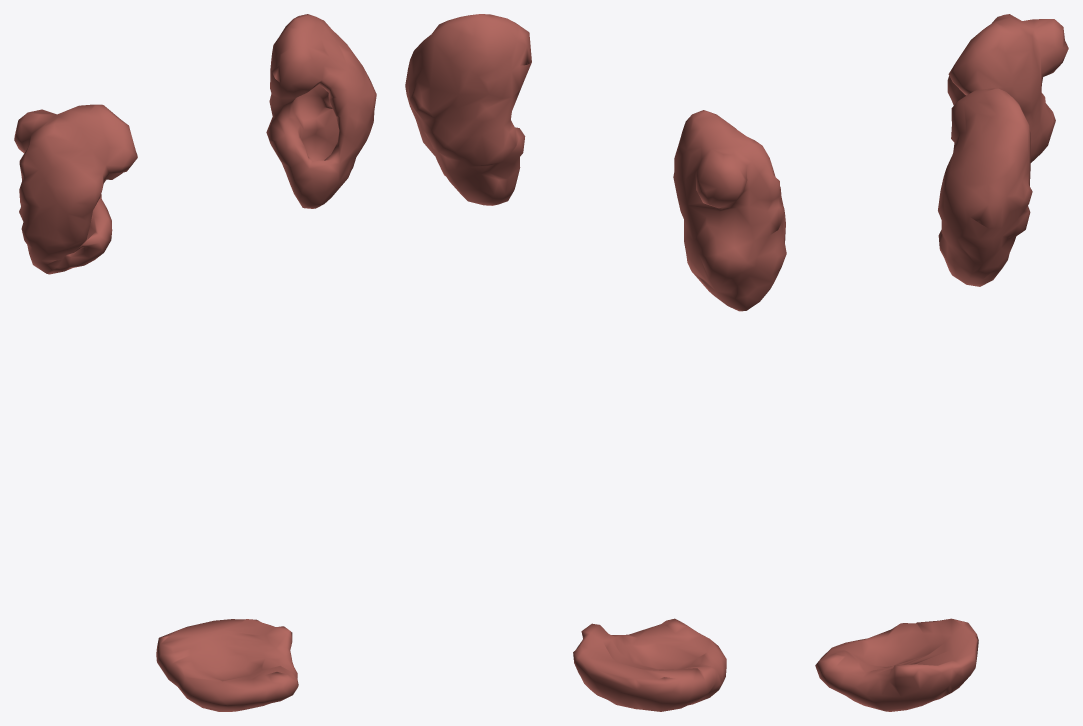
Rendered from tsd_s0327_older_adult_male.urinary.LOD3.glb.
The picture shows the model from 3 angles, left to right: view 1: azimuth 30°, elevation 25°; view 2: azimuth 150°, elevation 25°; view 3: azimuth 270°, elevation 25°; orthographic projection. The views are drawn at different scales.
Parts seen in each view (by area): view 1: TSD_S0327.OLDER_ADULT.MALE.URINARY.KIDNEY.R, TSD_S0327.OLDER_ADULT.MALE.URINARY.KIDNEY.L, TSD_S0327.OLDER_ADULT.MALE.URINARY.URINARY_BLADDER; view 2: TSD_S0327.OLDER_ADULT.MALE.URINARY.KIDNEY.L, TSD_S0327.OLDER_ADULT.MALE.URINARY.KIDNEY.R, TSD_S0327.OLDER_ADULT.MALE.URINARY.URINARY_BLADDER; view 3: TSD_S0327.OLDER_ADULT.MALE.URINARY.KIDNEY.L, TSD_S0327.OLDER_ADULT.MALE.URINARY.URINARY_BLADDER, TSD_S0327.OLDER_ADULT.MALE.URINARY.KIDNEY.R.
Part boxes in pixels (left/top/right/bottom): TSD_S0327.OLDER_ADULT.MALE.URINARY.KIDNEY.R: left=14, top=104, right=137, bottom=274; TSD_S0327.OLDER_ADULT.MALE.URINARY.KIDNEY.L: left=266, top=14, right=376, bottom=208; TSD_S0327.OLDER_ADULT.MALE.URINARY.URINARY_BLADDER: left=156, top=619, right=298, bottom=711; TSD_S0327.OLDER_ADULT.MALE.URINARY.KIDNEY.L: left=405, top=14, right=531, bottom=205; TSD_S0327.OLDER_ADULT.MALE.URINARY.KIDNEY.R: left=673, top=110, right=786, bottom=311; TSD_S0327.OLDER_ADULT.MALE.URINARY.URINARY_BLADDER: left=573, top=618, right=726, bottom=711; TSD_S0327.OLDER_ADULT.MALE.URINARY.KIDNEY.L: left=938, top=88, right=1032, bottom=286; TSD_S0327.OLDER_ADULT.MALE.URINARY.URINARY_BLADDER: left=815, top=618, right=978, bottom=711; TSD_S0327.OLDER_ADULT.MALE.URINARY.KIDNEY.R: left=947, top=14, right=1068, bottom=162.
Size of the model in its own units: 0.182 by 0.317 by 0.1093.
